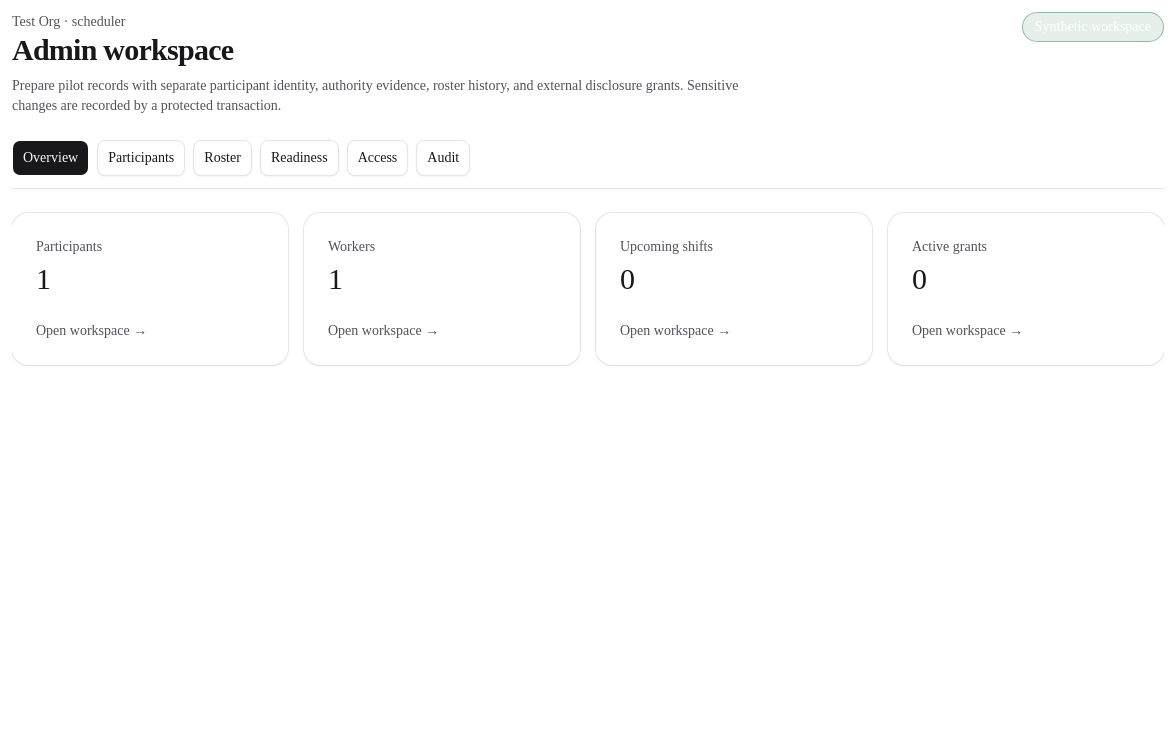
Test: mounted AdminWorkspace — invitation duplicate retry preserves the actor-bound copy link › clears the previous fallback when a genuinely new invite fails
Click the button "Access" at x=377, y=158, box [347,140,408,176]
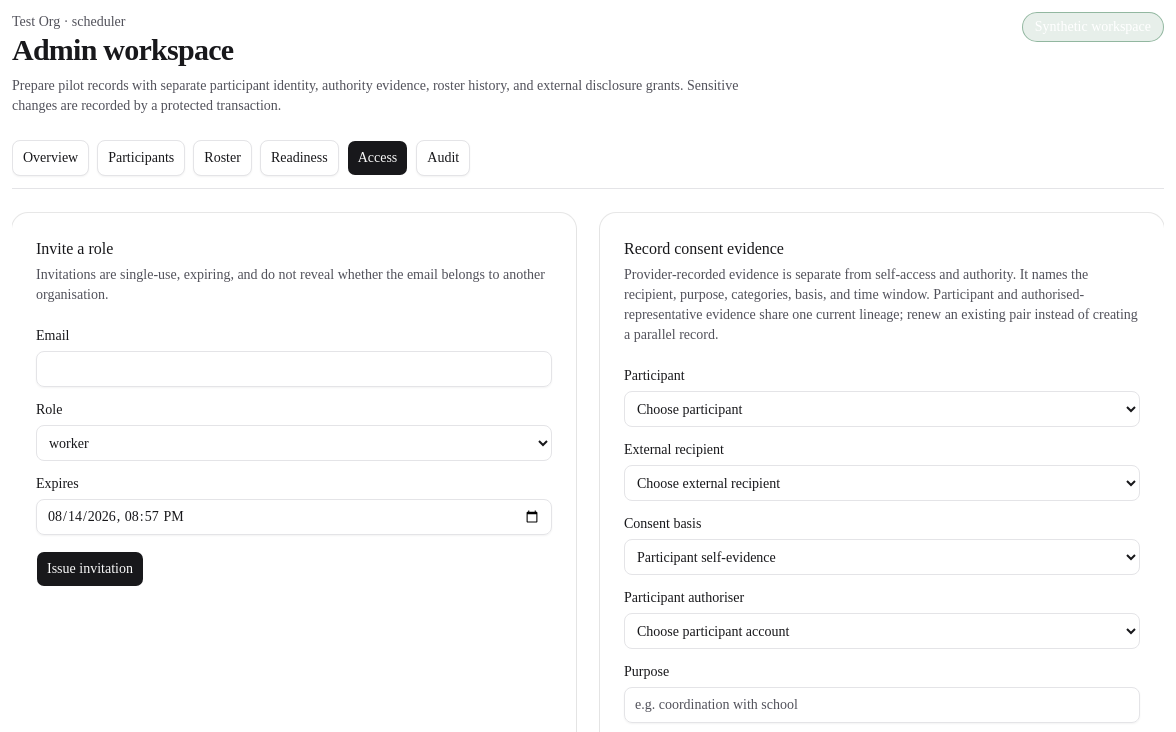
Type "first@y.test" into the field labelled "Email" at x=294, y=369, box [36,351,552,387]
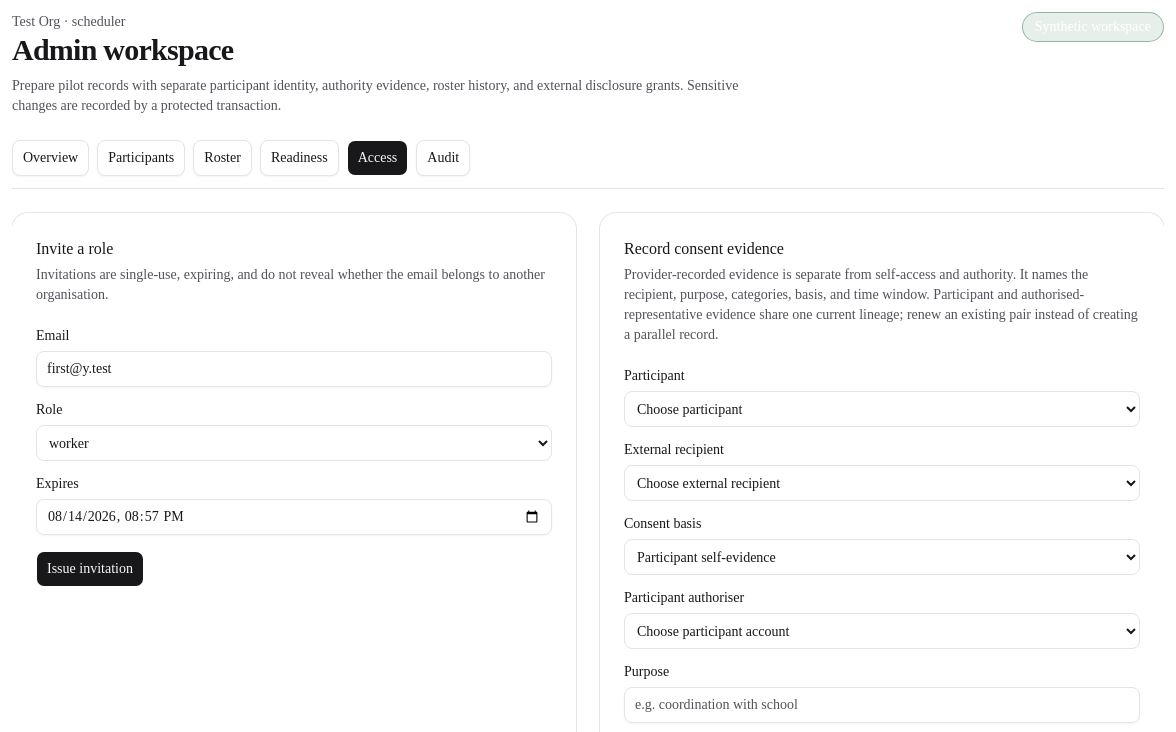
Click the button "Issue invitation" at x=90, y=569, box [36,551,144,587]
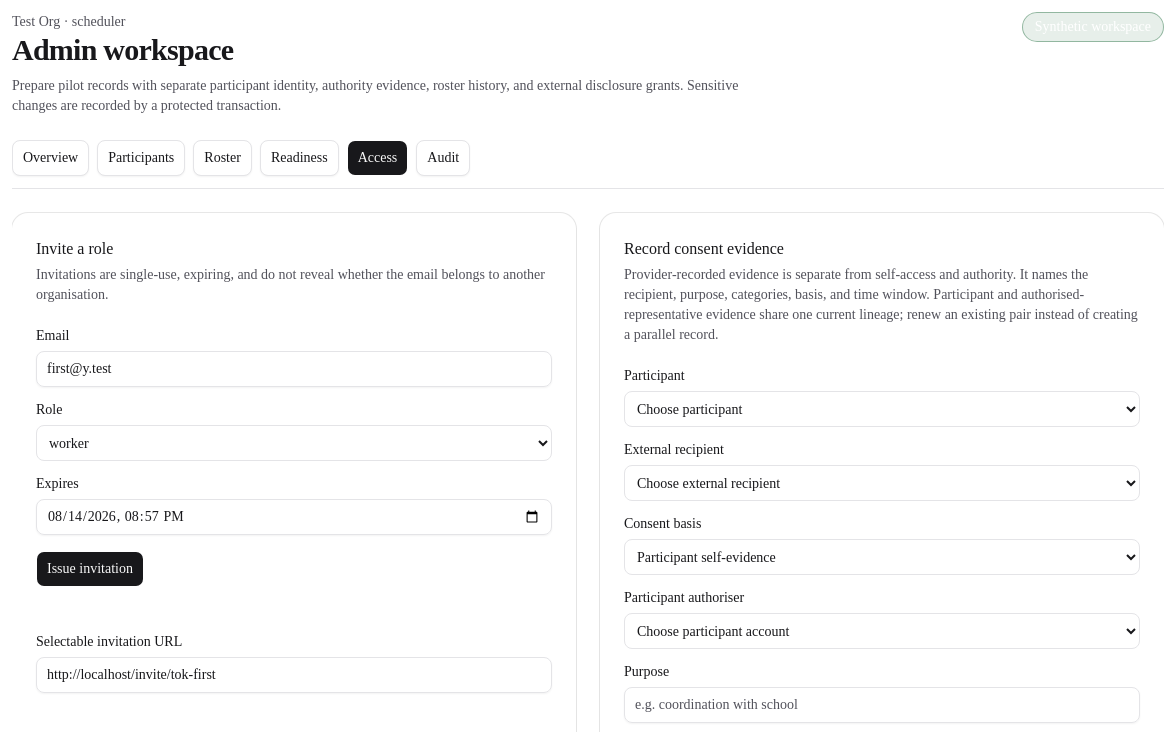
Replace the text in the field labelled "Email" with "second@y.test" at x=294, y=369, box [36,351,552,387]
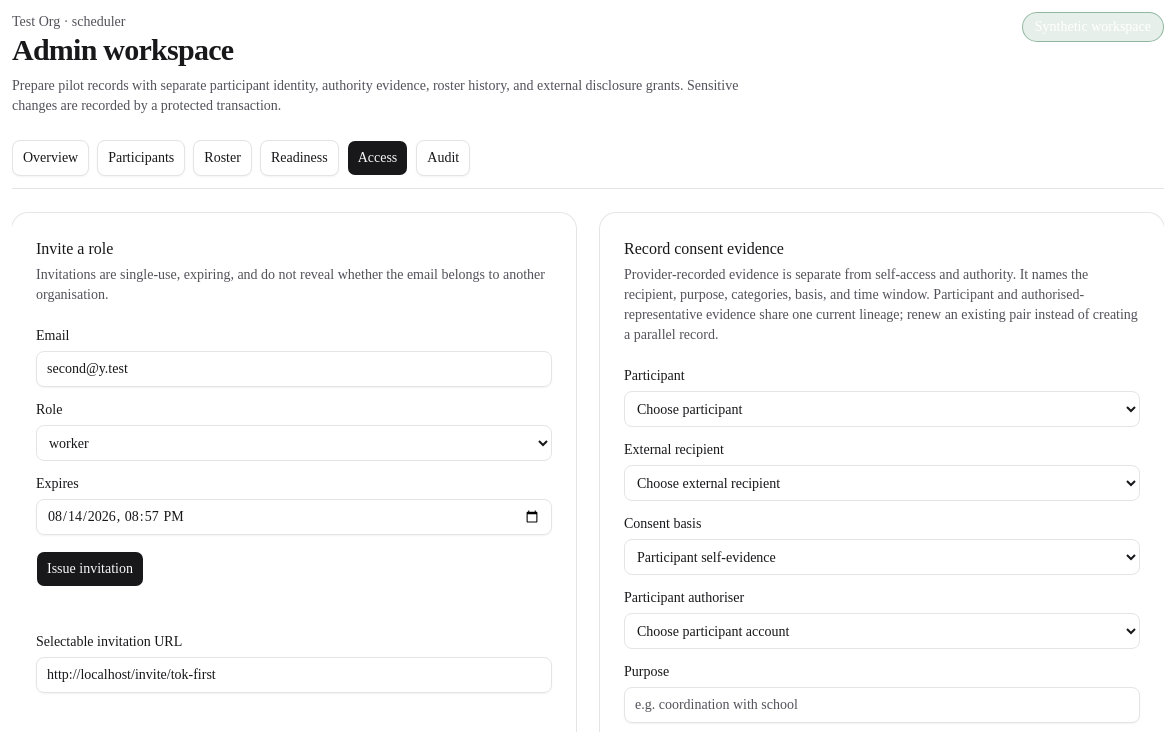
Click the button "Issue invitation" at x=90, y=569, box [36,551,144,587]
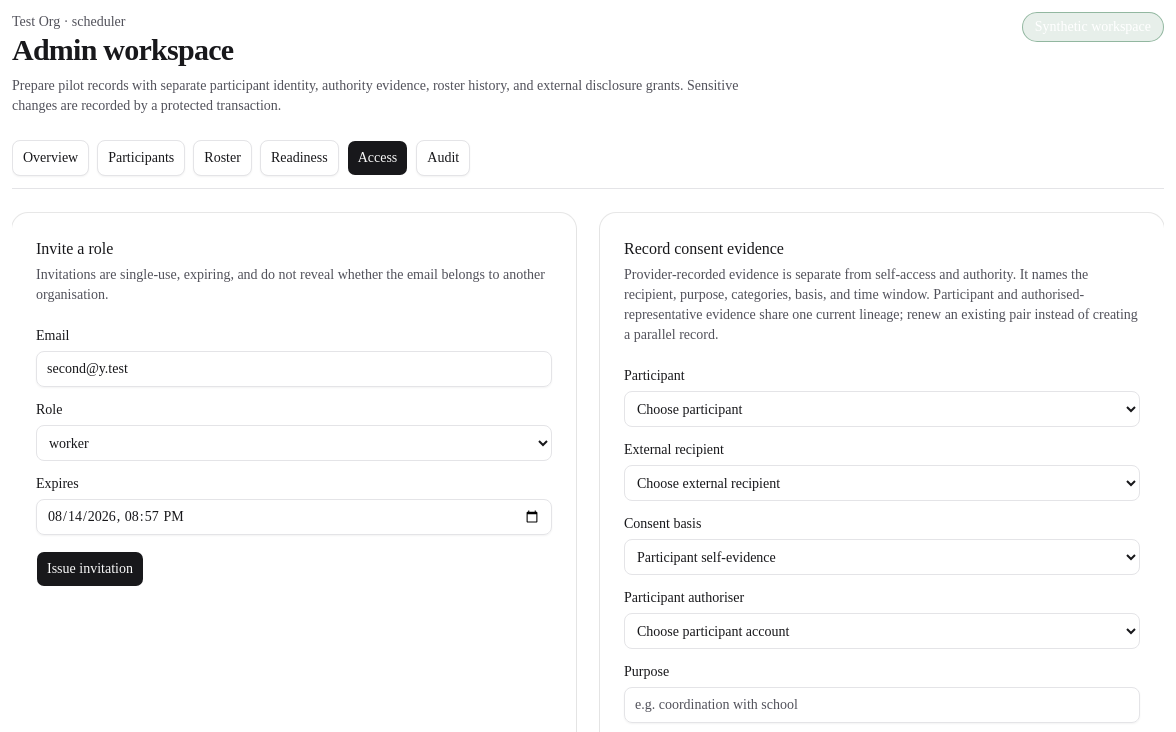
Check: the label labelled "Selectable invitation URL" is gone
